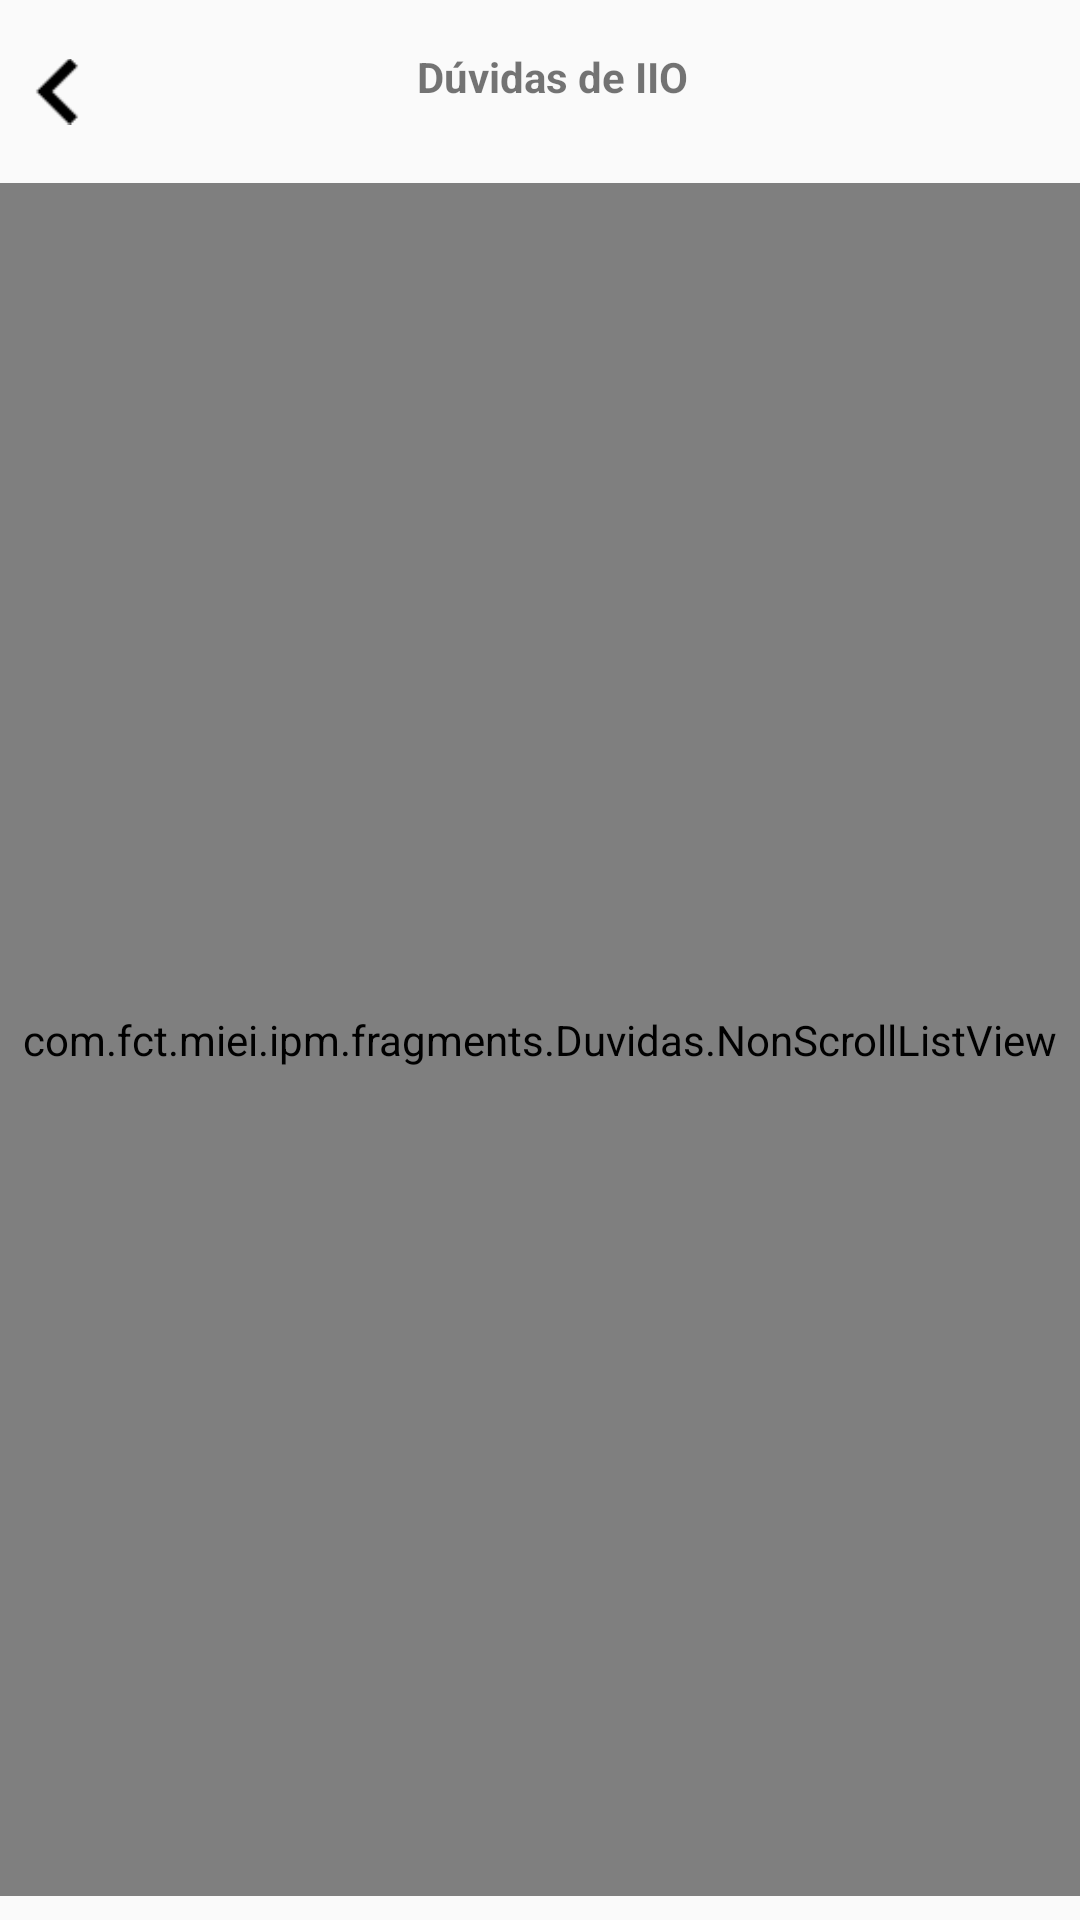

Screen size 1080 x 1920. Icon name, then its center in pixels as point (x, y):
backblack: point (57, 92)
